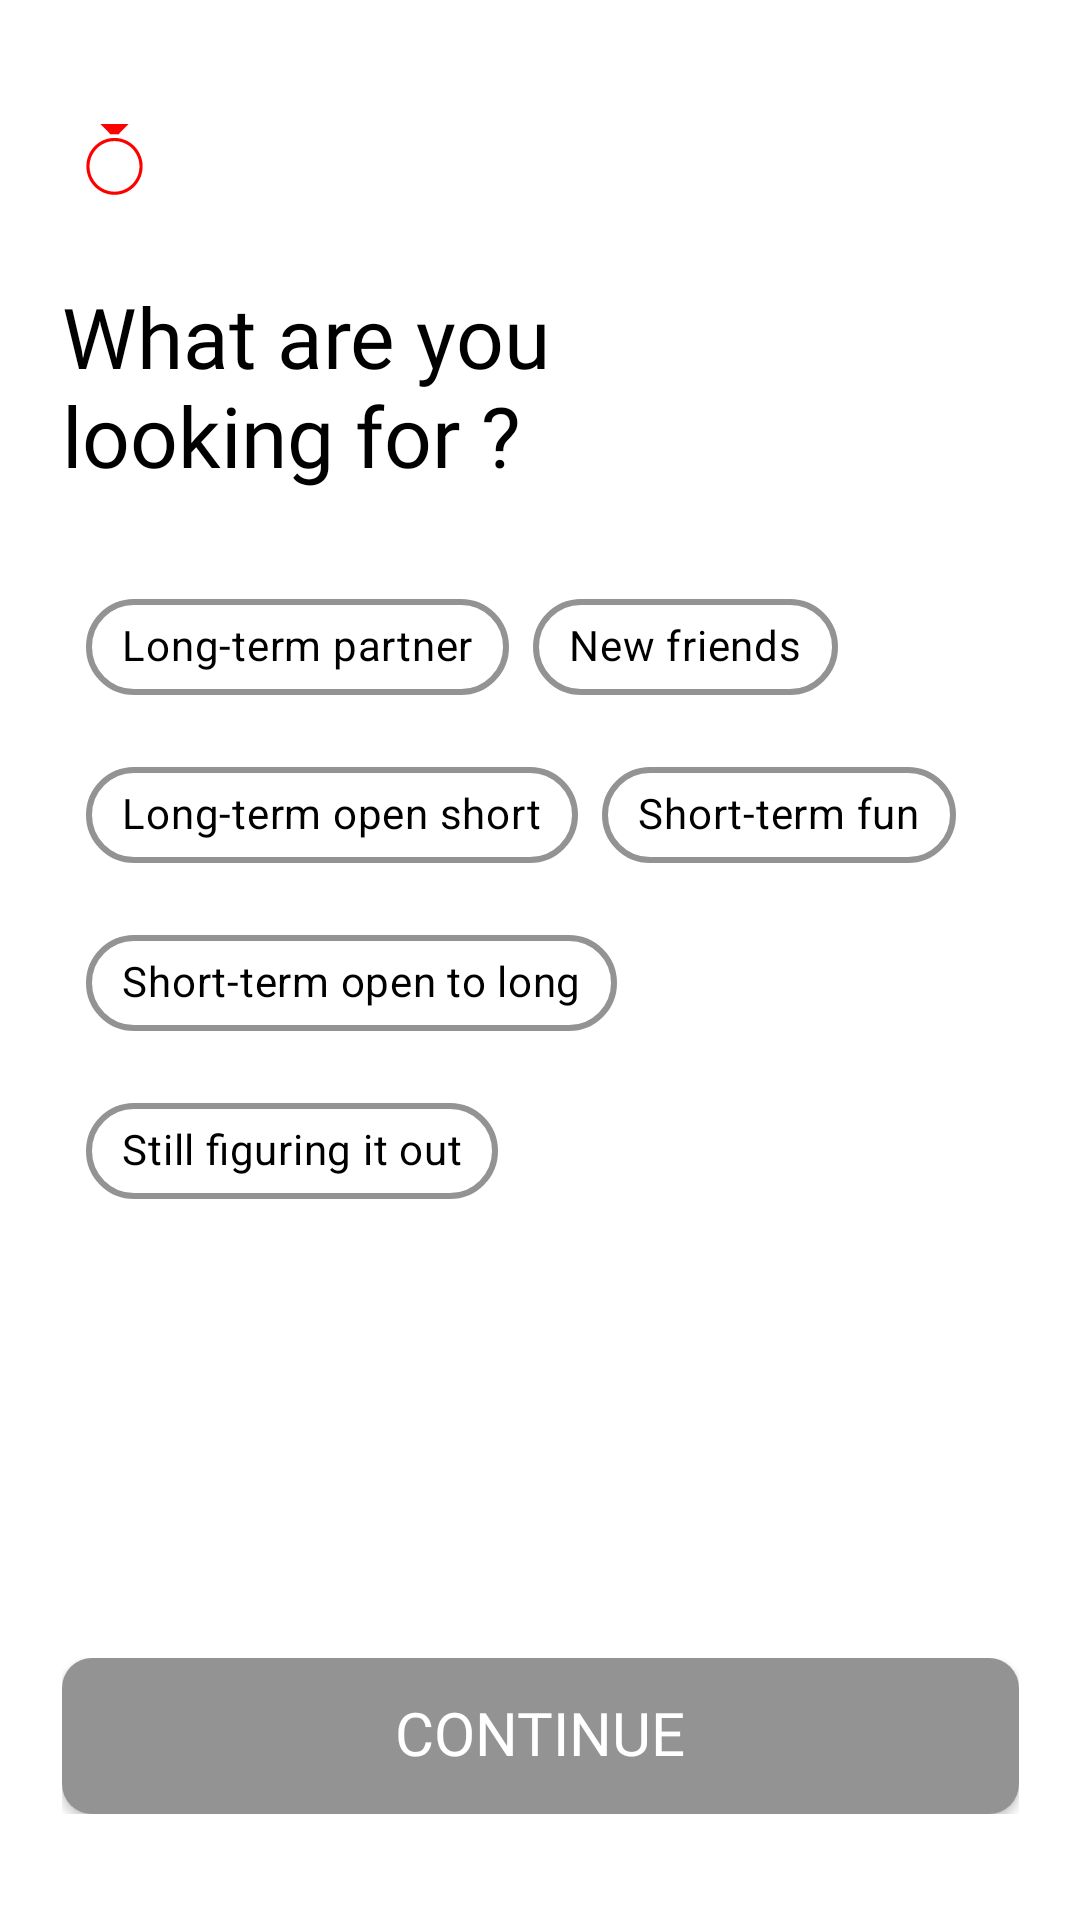

Icon click points for this 1080w x 1920h phone screenshot, format (x=x, y=y):
ring: (x=114, y=159)
